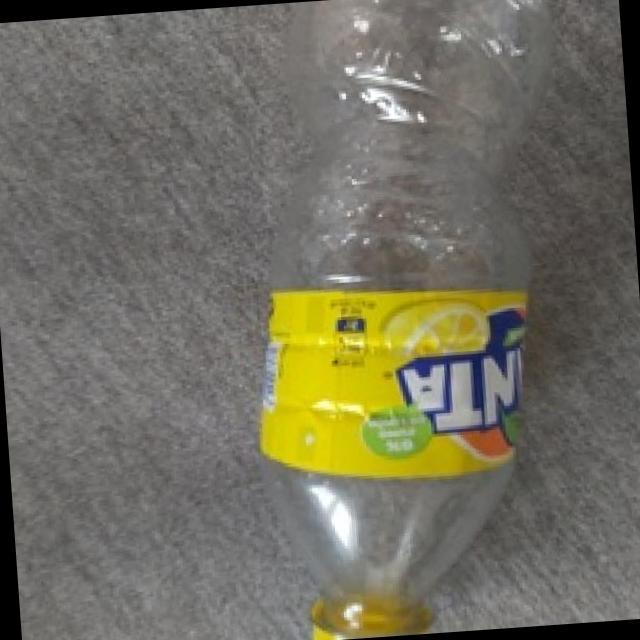good: (216, 0, 597, 640)
